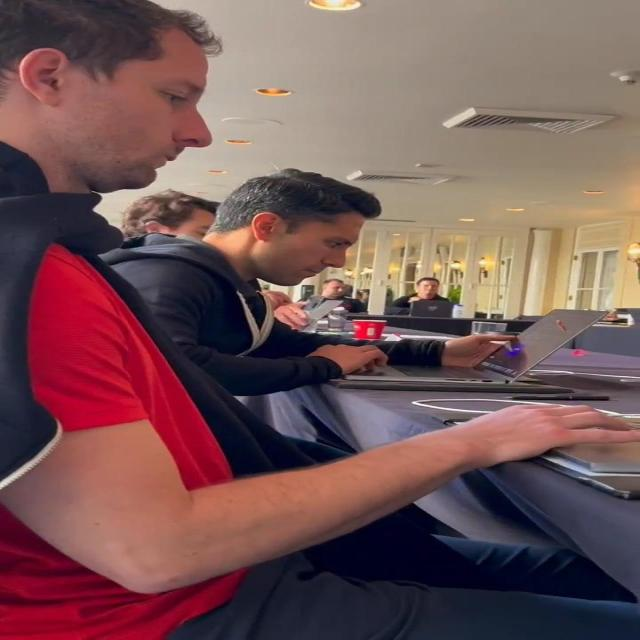NO-Mask: (60, 33, 213, 193), (258, 213, 364, 287), (175, 210, 215, 239), (328, 282, 346, 297), (419, 281, 438, 295)
